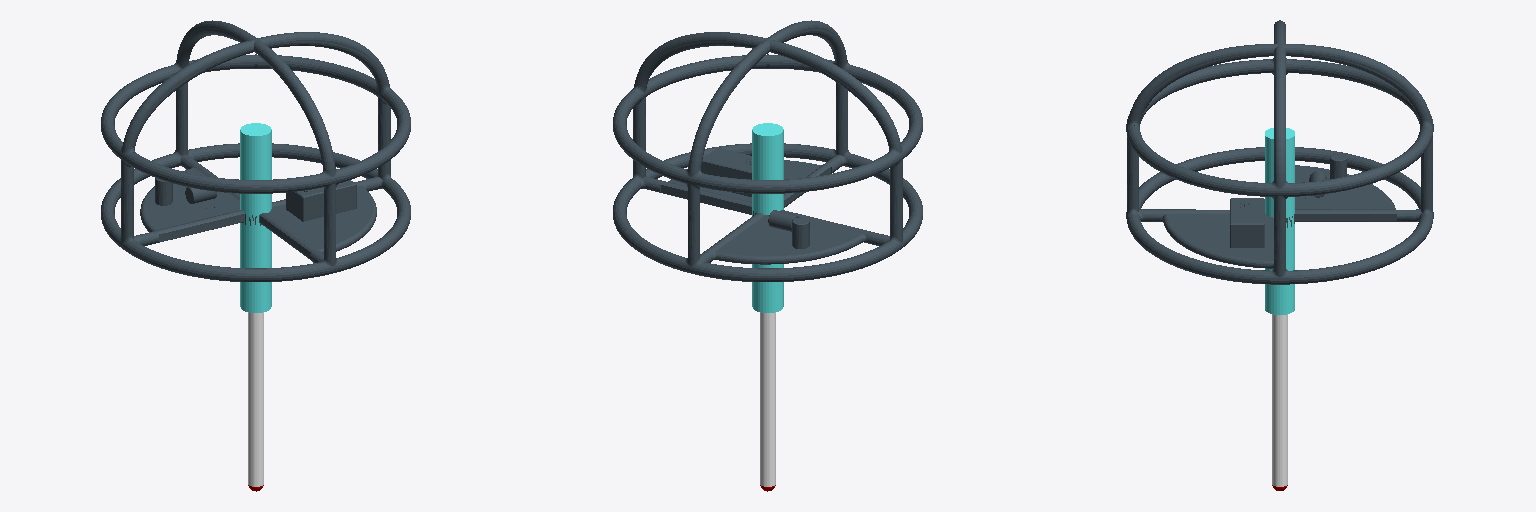
robot.urdf — 1dhopper:
<?xml version="1.0"?>
<robot name="1dhopper">
   <material name="blue">
	   <color rgba="0.42745098 0.97254902 0.96470588 1"/>
  </material>

 <material name="dark">
	   <color rgba="0.13333333 0.15686275 0.19215686 1"/>
   </material>

   <material name="grey">
    <color rgba="0.321 0.38039216 0.41960784 1"/>
  </material>

  <material name="red">
   <color rgba="0.8 0 0 1"/>
 </material>

  <material name="white">
    <color rgba="1 1 1 1"/>
  </material>

 <link name="balance_beam">
    <visual>
     <material name="grey"/>
      <geometry>
	      <mesh filename="dome_small.obj" scale="0.1 0.1 0.1"/>
      </geometry>
      <origin rpy="0 0 0" xyz="0 0 0"/>
    </visual>
    <collision>
       <geometry>
	       <cylinder length="0.4" radius="0.38"/>
       </geometry>
       <origin rpy="0 0 0" xyz="0 0 0"/>
     </collision>
     <inertial>
     <mass value="16"/>
     <inertia ixx="0.5668" ixy="0.0" ixz="0.0" iyy="0.5668" iyz="0.0" izz="0.75088"/>
     <origin rpy="0 0 0" xyz="0 0 0"/>
   </inertial>
  </link>

 <link name="upper_base_link">
    <visual>
      <geometry>
        <cylinder length="0.01" radius="0.04"/>
      </geometry>
      <material name="blue"/>
    </visual>
    <collision>
       <geometry>
         <cylinder length="0.01" radius="0.04"/>
       </geometry>
     </collision>
     <inertial>
     <mass value="0.01"/>
     <inertia ixx="1e-3" ixy="0.0" ixz="0.0" iyy="1e-3" iyz="0.0" izz="1e-3"/>
   </inertial>

  </link>

  <link name="base_link">
    <visual>
      <geometry>
        <cylinder length="0.5" radius="0.04"/>
      </geometry>
      <material name="blue"/>
    </visual>
    <collision>
       <geometry>
         <cylinder length="0.5" radius="0.04"/>
       </geometry>
     </collision>
     <inertial>
     <mass value="0.15"/>
     <inertia ixx="0.3185000000e-2" ixy="0.0" ixz="0.0" iyy="0.3185000000e-2" iyz="0.0" izz="0.1200000000e-3"/>
   </inertial>

  </link>

  <joint name="base_joint" type="continuous">
      <axis xyz="1 0 0"/>
      <origin xyz="0 0 0"/>
      <!--<limit effort="1000.0" lower="-1.57079632679" upper="1.57079632679" velocity="100"/>-->
      <limit effort="1000.0" lower="-0.349" upper="0.349" velocity="100"/>
      <dynamics damping="0.0" friction="0.3"/>
      <!-- <limit effort="1000.0" lower="-1.2" upper="1.2" velocity="10"/> -->
      <parent link="upper_base_link"/>
      <child link="base_link"/>

    </joint>

  <joint name="base_to_beam" type="continuous">
      <axis xyz="0 1 0"/>
      <origin xyz="0 0 -0.25"/>
      <!--<limit effort="1000.0" lower="-1.57079632679" upper="1.57079632679" velocity="100"/>-->
      <limit effort="1000.0" lower="-0.523" upper="0.523" velocity="100"/>
      <dynamics damping="0.0" friction="0.3"/>
      <!-- <limit effort="1000.0" lower="-1.2" upper="1.2" velocity="10"/> -->
      <parent link="balance_beam"/>
      <child link="upper_base_link"/>

    </joint>

    <link name="leg">
        <visual>
          <geometry>
            <cylinder length="0.5" radius="0.02"/>
          </geometry>
          <material name="white"/>
          <origin rpy="0 0 0" xyz="0 0 0"/>
        </visual>
        <collision>
           <geometry>
             <cylinder length="0.5" radius="0.02"/>
           </geometry>
           <origin rpy="0 0 0" xyz="0 0 0"/>
         </collision>
         <inertial>
         <mass value="0.15"/>
         <inertia ixx="0.3140000000e-2" ixy="0.0" ixz="0.0" iyy="0.3140000000e-2" iyz="0.0" izz="0.3000000000e-4"/>
         <origin rpy="0 0 0" xyz="0 0 -0.4"/>
       </inertial>
      </link>

    <joint name="foot_joint" type="prismatic">
        <axis xyz="0 0 1"/>
        <limit effort="1000.0" lower="0" upper="0.5" velocity="1000"/>
	 <dynamics damping="0.0" friction="0.0"/>
        <parent link="base_link"/>
        <child link="leg"/>
        <origin xyz="0 0 -0.5"/>

      </joint>

      <link name="toe">
        <visual>
          <geometry>
            <sphere radius="0.02"/>
          </geometry>
          <material name="red"/>
        </visual>
        <collision>
          <geometry>
            <sphere radius="0.02"/>
          </geometry>
         </collision>
         <inertial>
         <mass value="0.01"/>
         <inertia ixx="0.001" ixy="0.0" ixz="0.0" iyy="0.001" iyz="0.0" izz="0.001"/>
       </inertial>

      </link>

      <joint name="leg_toe" type="fixed">
          <parent link="leg"/>
          <child link="toe"/>
          <origin xyz="0 0 -0.25"/>
          <!-- <dynamics damping="0.5" friction="1.0"/> -->
        </joint>

<!--<link name="head">-->
    <!--<visual>-->
      <!--<geometry>-->
        <!--<sphere radius="0.25"/>-->
      <!--</geometry>-->
      <!--<material name="blue"/>-->
    <!--</visual>-->
  <!--</link>-->

 <!--<joint name="beam_head" type="fixed">-->
     <!--<parent link="balance_beam"/>-->
     <!--<child link="head"/>-->
     <!--<origin xyz="0 0 0"/>-->
 <!--</joint>-->
</robot>

--- Render facts (derived) ---
Views: 3 orthographic renders of the robot side by side, from view 1: azimuth 30°, elevation 25°; view 2: azimuth 150°, elevation 25°; view 3: azimuth 270°, elevation 25°.
Robot: 1dhopper — 5 links, 4 joints (2 continuous, 1 prismatic, 1 fixed); root link balance_beam; default pose: every joint at zero.
Visible links, largest first — view 1: balance_beam, base_link, leg; view 2: balance_beam, base_link, leg; view 3: balance_beam, leg, base_link.
Boxes of the visible links, left/top/right/bottom form: balance_beam: left=101, top=20, right=410, bottom=281; base_link: left=240, top=123, right=271, bottom=312; leg: left=248, top=312, right=263, bottom=486; balance_beam: left=613, top=20, right=922, bottom=281; base_link: left=752, top=123, right=783, bottom=312; leg: left=760, top=312, right=775, bottom=486; balance_beam: left=1126, top=20, right=1433, bottom=284; leg: left=1272, top=314, right=1287, bottom=486; base_link: left=1265, top=128, right=1294, bottom=314.
Bounding box of the posed robot: 0.796 × 0.796 × 1.27 m (x, y, z).
Meshes: 1 distinct files referenced, 1 mesh visuals loaded (1 OBJ).